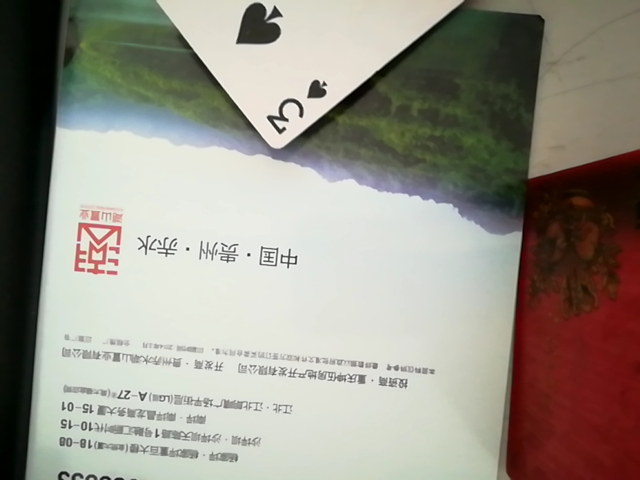ht 3: (114, 1, 560, 157)
